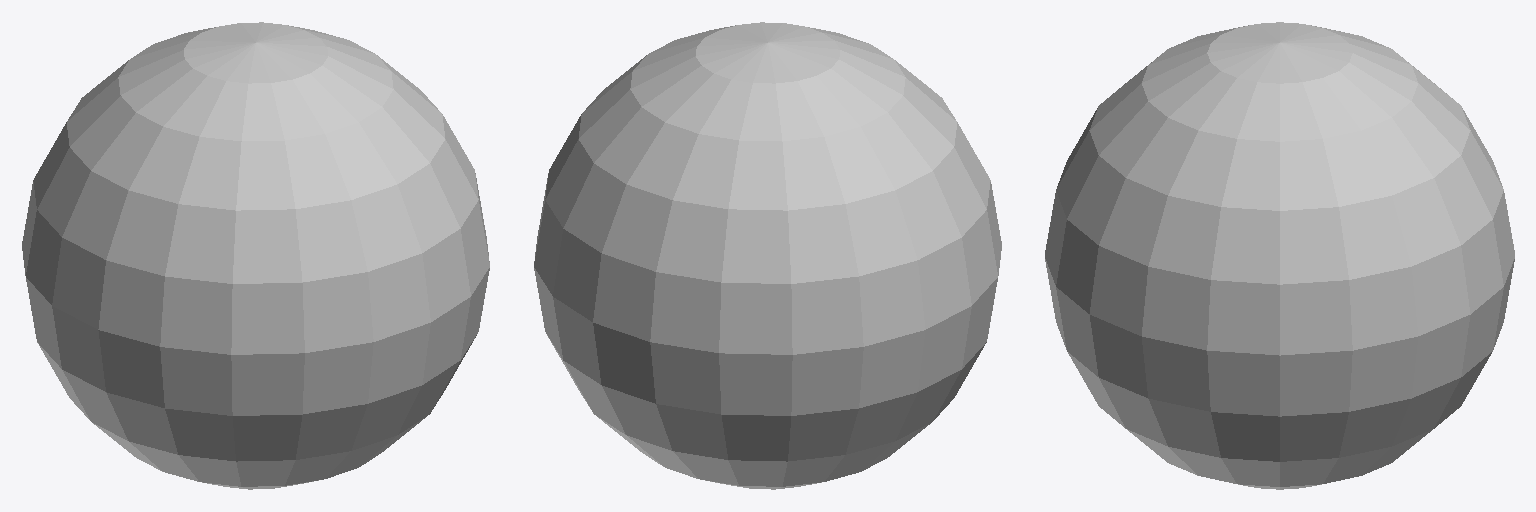
Rendered from test_bom0.obj.
3 views of the same model, side by side, from view 1: azimuth 30°, elevation 25°; view 2: azimuth 150°, elevation 25°; view 3: azimuth 270°, elevation 25° (orthographic).
Size of the model in its own units: 2 by 2 by 2.